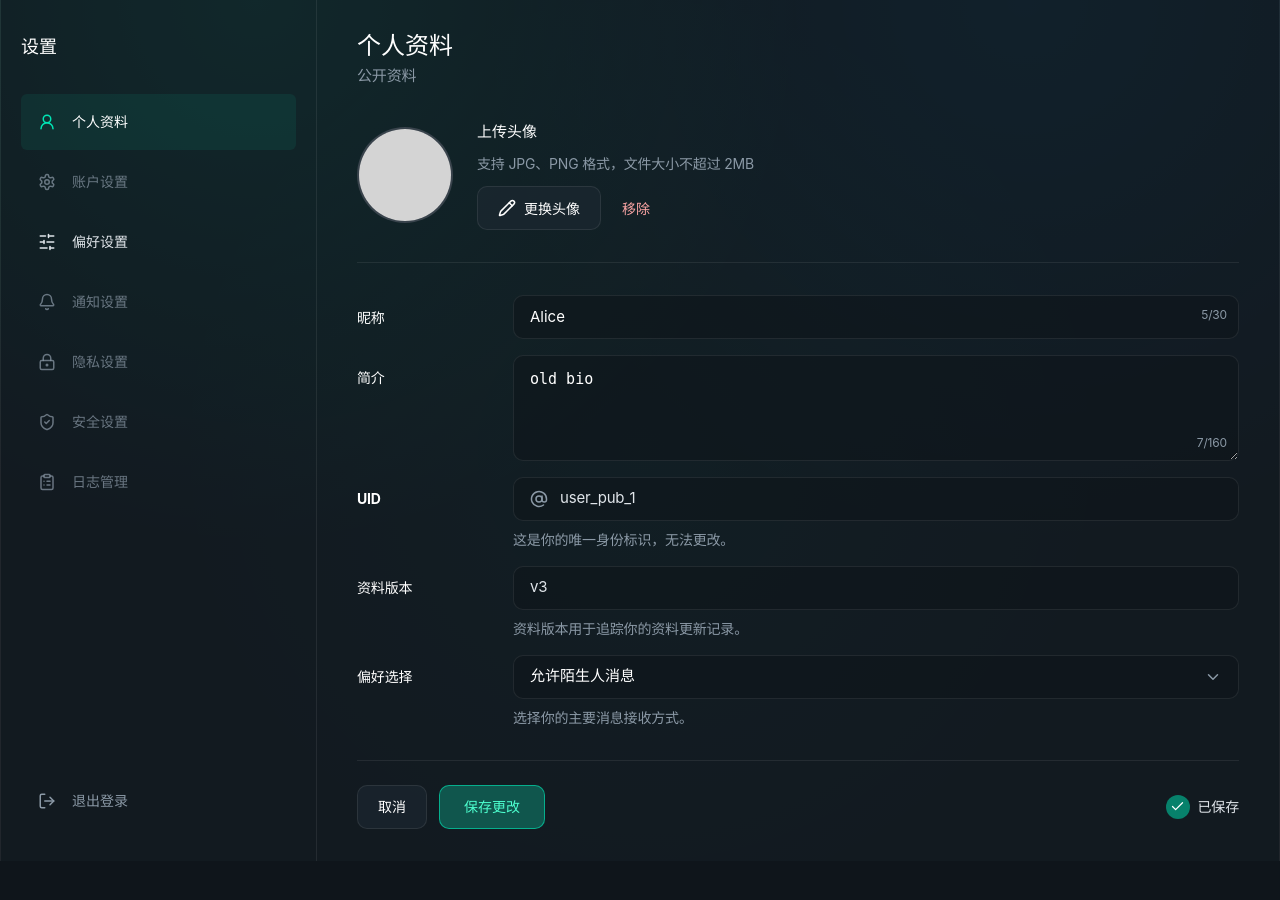
Scenario: UserProfileRoutePage › switches settings content through the left tab list
Expected: the field labelled "昵称" is shown, [513,295,1239,339]
Expected: the element with class "user-profile__nav-panel" does not show "Alice"
Click the tab with test id "user-profile-tab-message-preference" at (100,242), box [21,214,296,270]
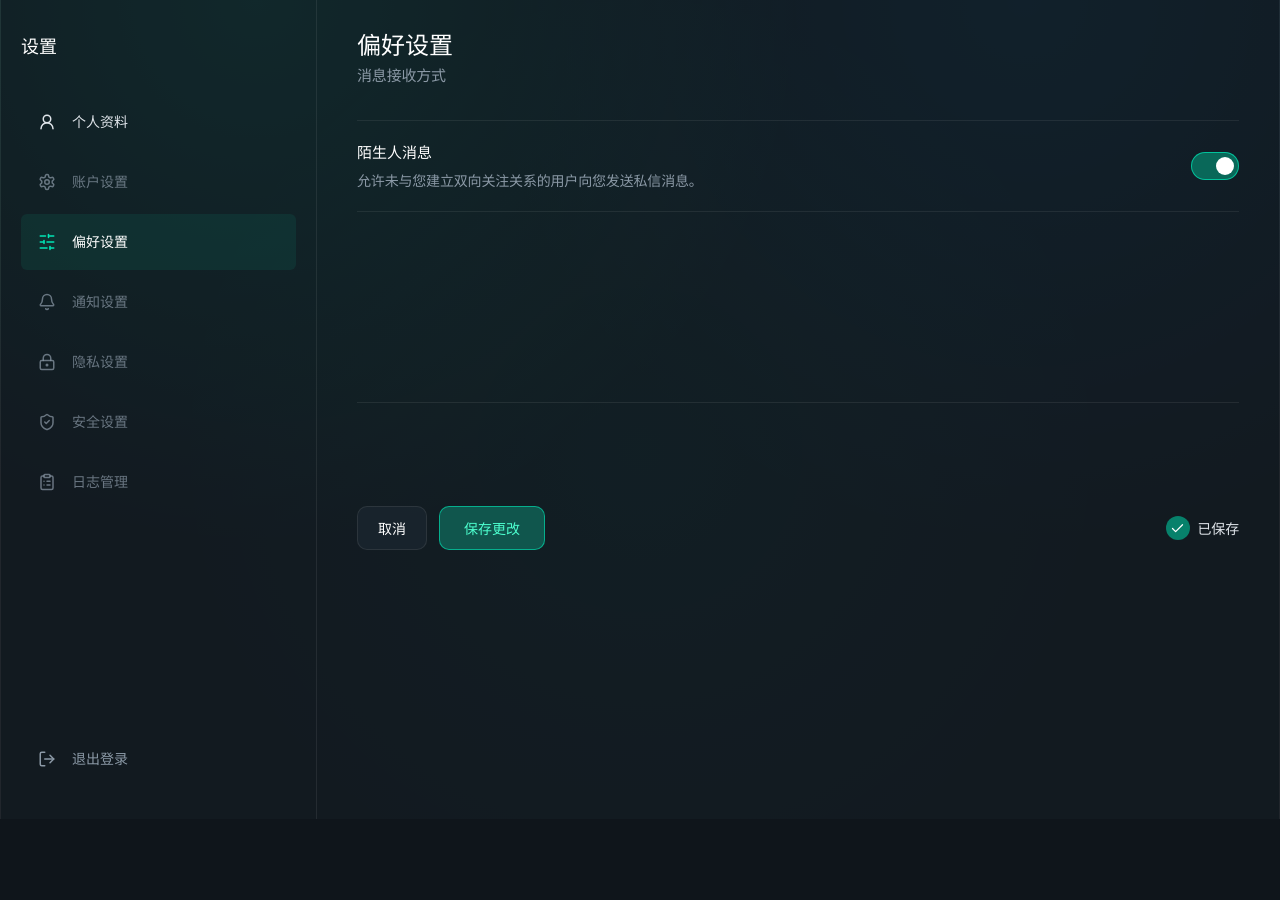
Expected: the heading "偏好设置" is shown, [357,31,453,60]
